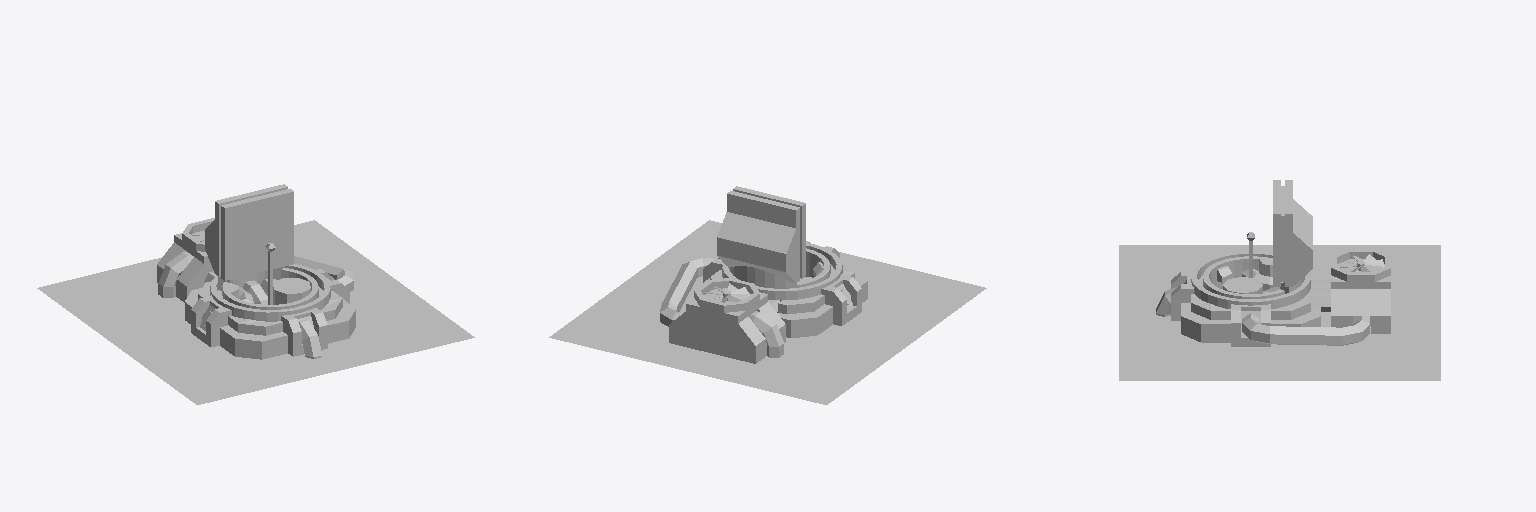
Rendered from armsd_AOplate.obj.
3 views of the same model, side by side, from view 1: azimuth 30°, elevation 25°; view 2: azimuth 150°, elevation 25°; view 3: azimuth 270°, elevation 25° (orthographic).
Parts seen in each view (by area): view 1: fan,ox=-0.00,oy=12.87,oz=-24.33,p=base,, base,ox=0.00,oy=0.00,oz=0.00,p=,mx=0.00,my=18.00,mz=0.00,r=37.00, spinner,ox=-0.00,oy=11.97,oz=8.67,p=base,; view 2: fan,ox=-0.00,oy=12.87,oz=-24.33,p=base,, base,ox=0.00,oy=0.00,oz=0.00,p=,mx=0.00,my=18.00,mz=0.00,r=37.00, spinner,ox=-0.00,oy=11.97,oz=8.67,p=base,; view 3: fan,ox=-0.00,oy=12.87,oz=-24.33,p=base,, base,ox=0.00,oy=0.00,oz=0.00,p=,mx=0.00,my=18.00,mz=0.00,r=37.00, spinner,ox=-0.00,oy=11.97,oz=8.67,p=base,.
Part boxes in pixels (x1,y1,x2,y2): fan,ox=-0.00,oy=12.87,oz=-24.33,p=base,: (37,220,474,404); base,ox=0.00,oy=0.00,oz=0.00,p=,mx=0.00,my=18.00,mz=0.00,r=37.00: (157,218,355,359); spinner,ox=-0.00,oy=11.97,oz=8.67,p=base,: (205,184,293,290); fan,ox=-0.00,oy=12.87,oz=-24.33,p=base,: (549,220,986,404); base,ox=0.00,oy=0.00,oz=0.00,p=,mx=0.00,my=18.00,mz=0.00,r=37.00: (660,241,867,363); spinner,ox=-0.00,oy=11.97,oz=8.67,p=base,: (717,186,805,288); fan,ox=-0.00,oy=12.87,oz=-24.33,p=base,: (1119,245,1440,380); base,ox=0.00,oy=0.00,oz=0.00,p=,mx=0.00,my=18.00,mz=0.00,r=37.00: (1156,232,1390,346); spinner,ox=-0.00,oy=11.97,oz=8.67,p=base,: (1273,180,1312,293).
Size of the model in its own units: 96 by 38.76 by 96.